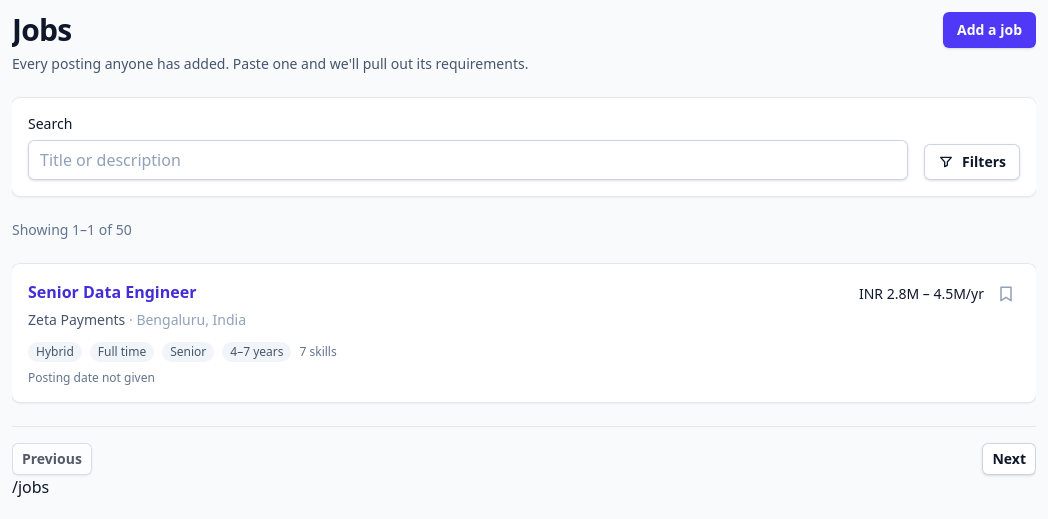
Test: JobsPage › the filters collapse behind a button › brings the results back, and the focus with them
Expected: the list item is shown, [12, 264, 1036, 402]
What coordinates should you click on to do the following:
click the button "Filters"
I would click on:
 (972, 162)
Its box is [924, 144, 1020, 180].
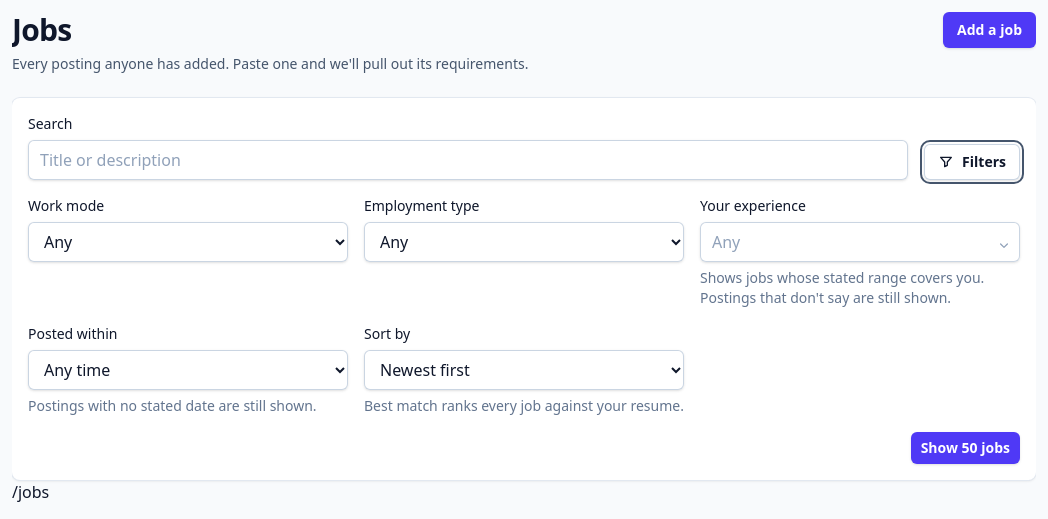
What coordinates should you click on to do the following:
click the button "Show 50 jobs"
I would click on:
 (965, 448)
Its box is [911, 432, 1020, 464].
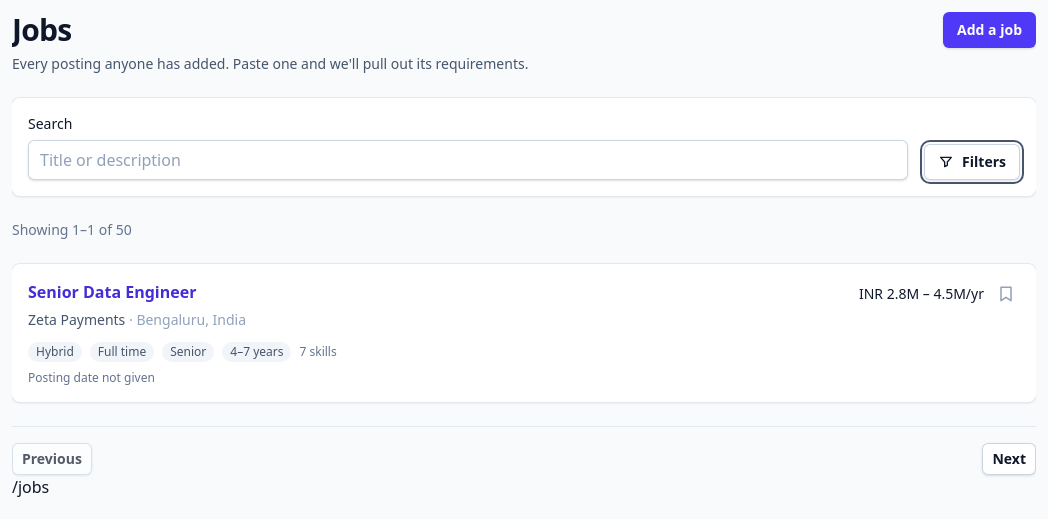
Expected: the list item is shown, [12, 264, 1036, 402]
